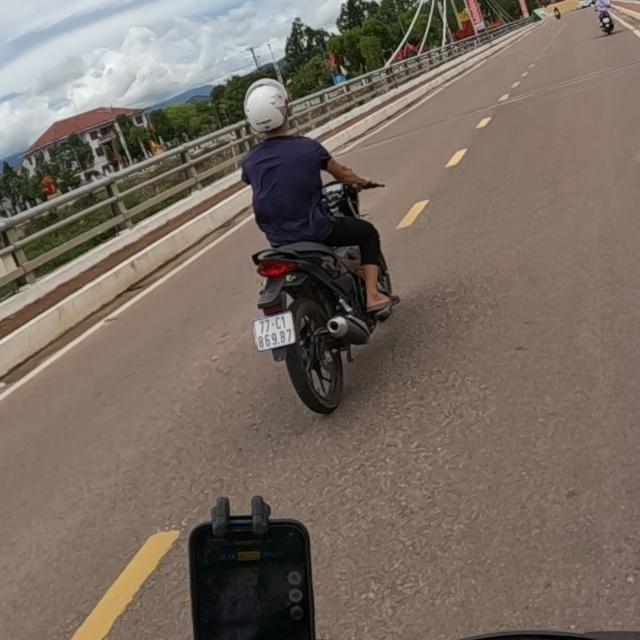license-plate: (251, 311, 299, 353)
